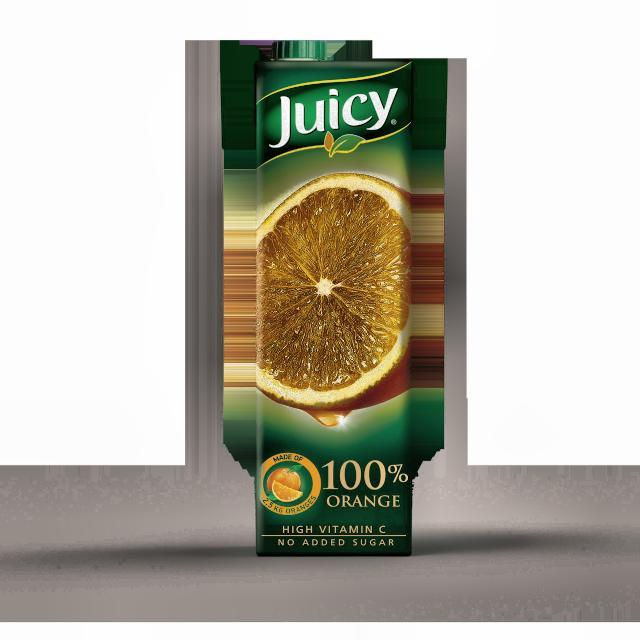cardboard: (214, 42, 458, 556)
